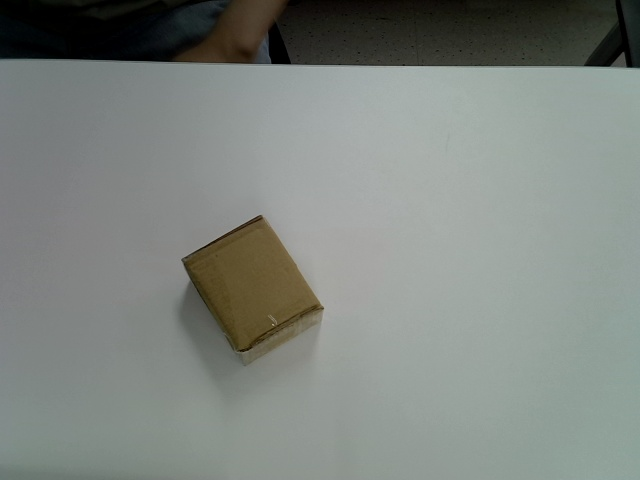normal: (181, 214, 325, 366)
